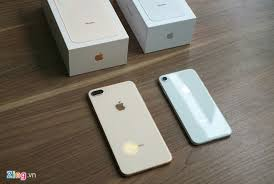iphone: (83, 80, 175, 180)
